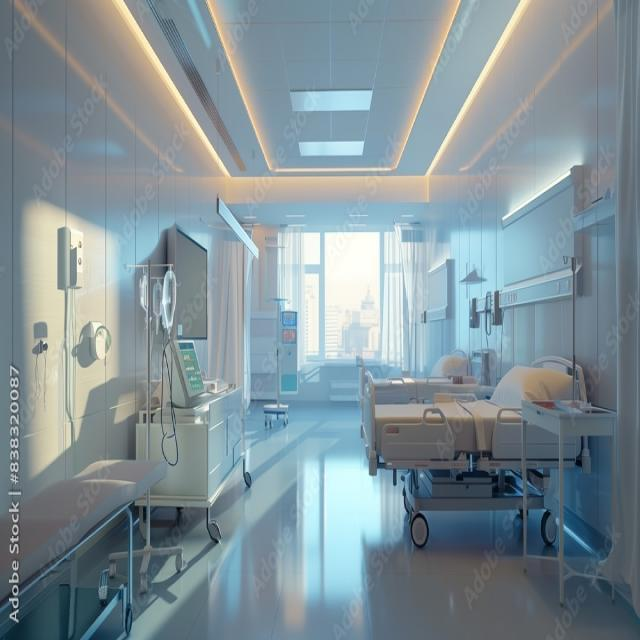bed: (360, 354, 590, 549)
